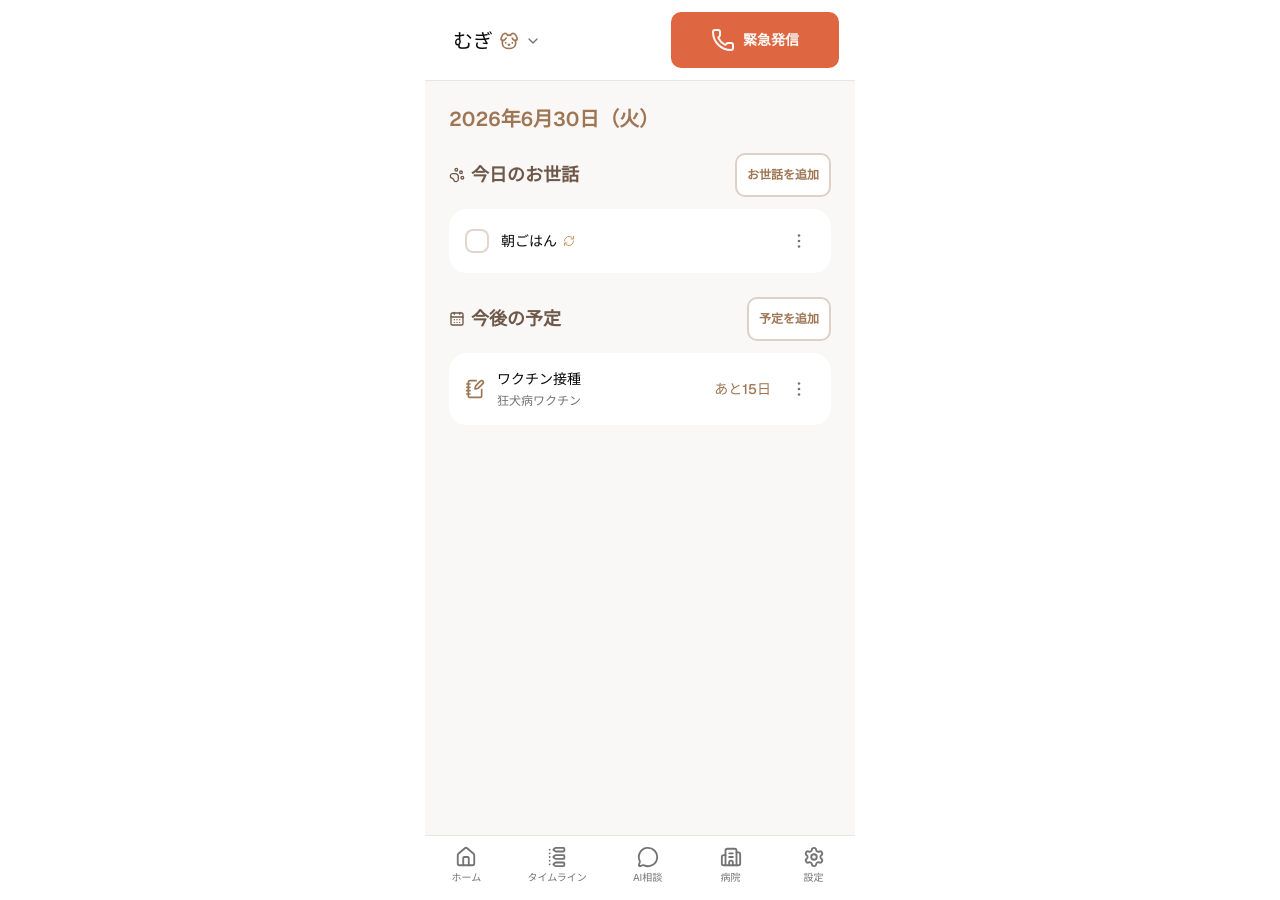
Scenario: CareHomePage › ToDo関連 › UT-F-211: ToDo削除リクエストで確認Modalが開く
Click the button named "朝ごはんのメニューを開く": (799, 241) x1=783 y1=225 x2=815 y2=257
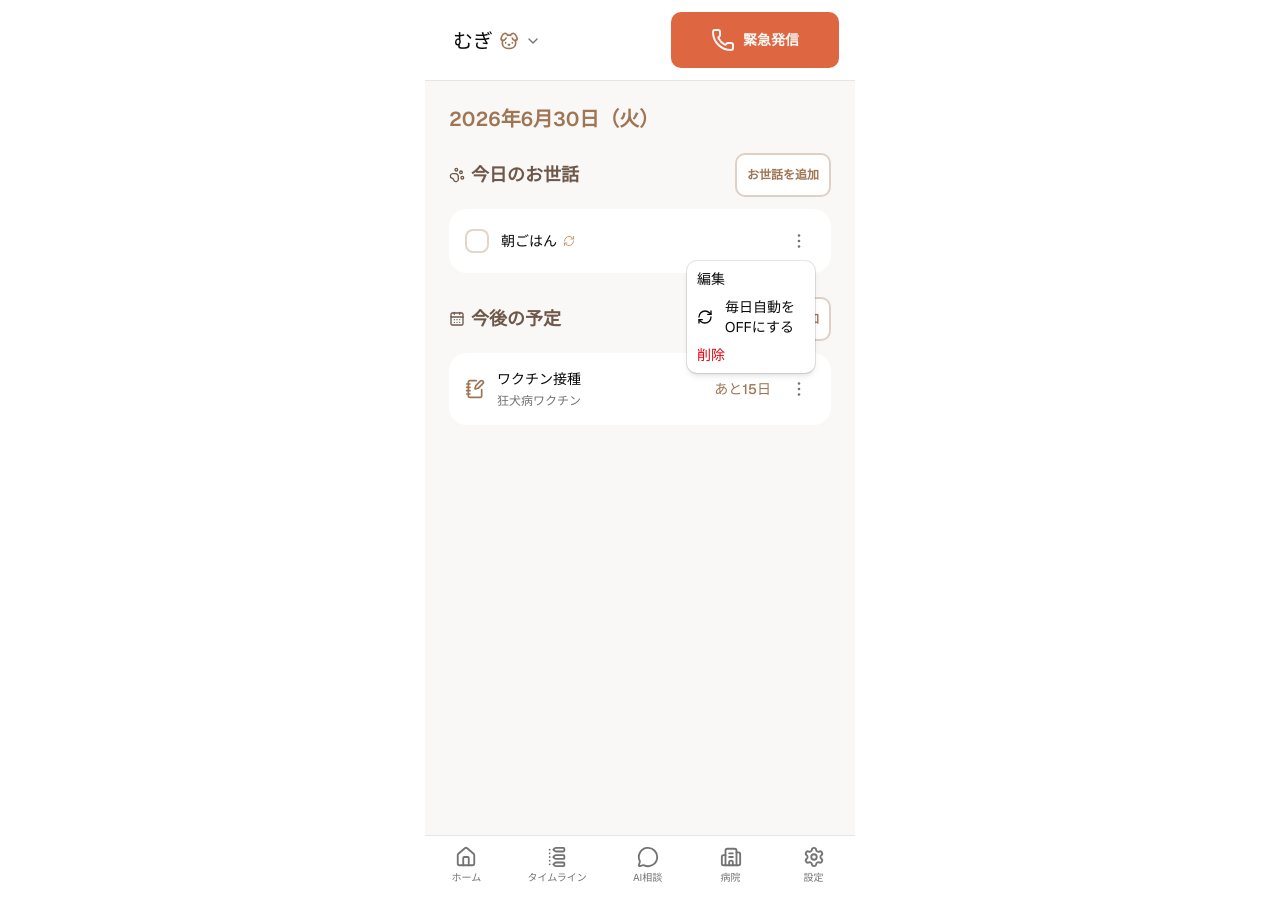
Click the menu item "削除": (711, 355) x1=697 y1=346 x2=725 y2=364
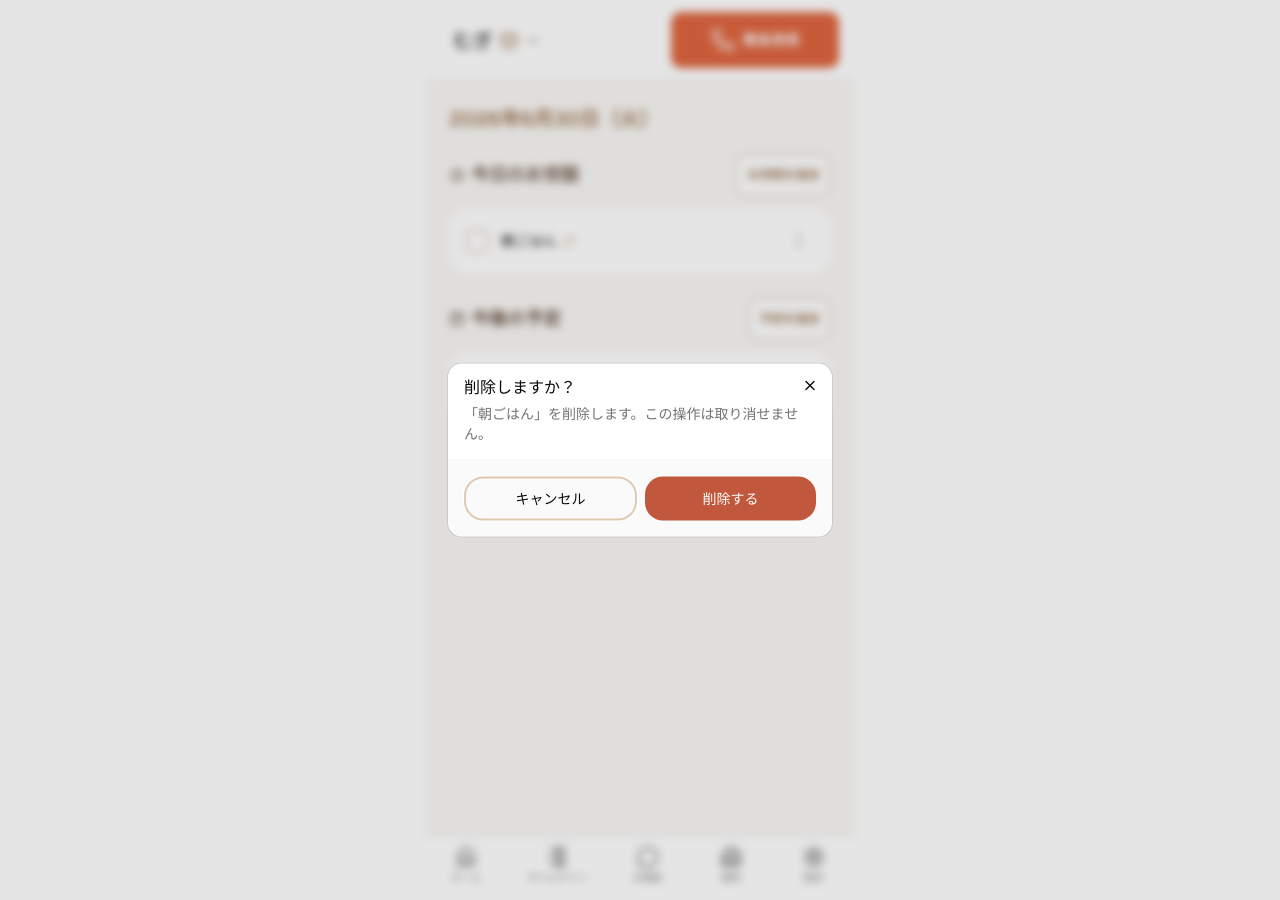
Now the text "「朝ごはん」を削除します。この操作は取り消せません。" is shown, box x1=464 y1=404 x2=816 y2=444
